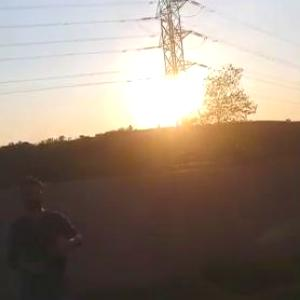follow: (1, 172, 89, 299)
